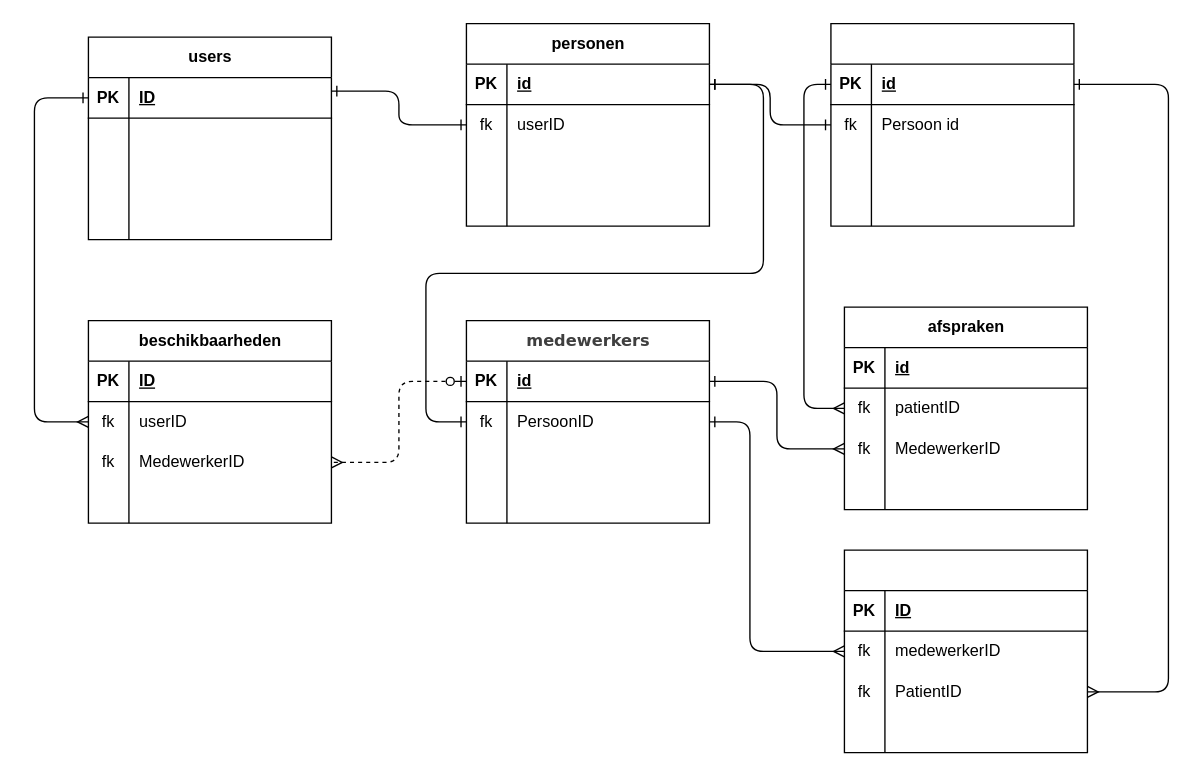
Image size: 1204x776. Some labels were removed from this diagram. Here are the shapes that lost their labels. From the top down, the box of each, then its label:
(830, 22, 1074, 226): Patienten
(843, 549, 1087, 753): behandeling
